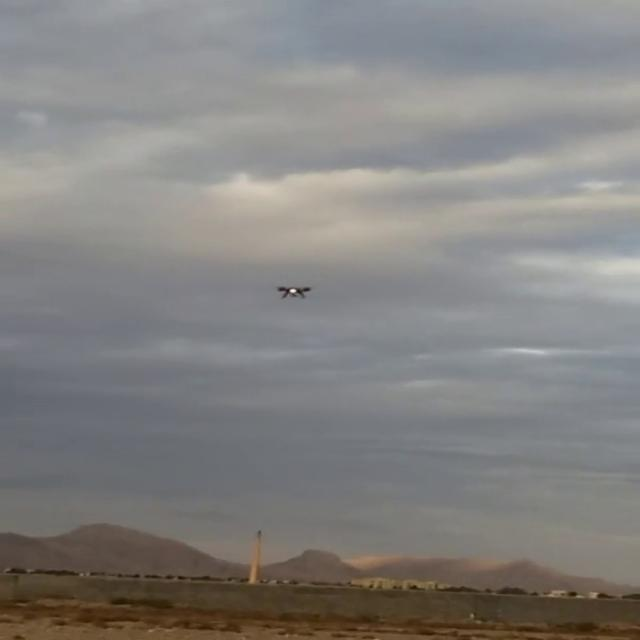drone: (270, 281, 317, 303)
